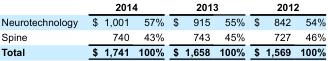table: (0, 0, 325, 57)
table column: (0, 0, 84, 57), (84, 0, 133, 57), (167, 0, 213, 57), (248, 0, 294, 57), (213, 0, 248, 57), (133, 0, 167, 57), (294, 0, 325, 57)
table column header: (0, 0, 325, 29)
table row: (0, 14, 325, 29), (0, 29, 325, 44), (0, 0, 325, 14), (0, 44, 325, 57)
table spanning cell: (0, 0, 84, 29), (84, 0, 167, 14), (167, 0, 248, 14), (248, 0, 325, 14)
